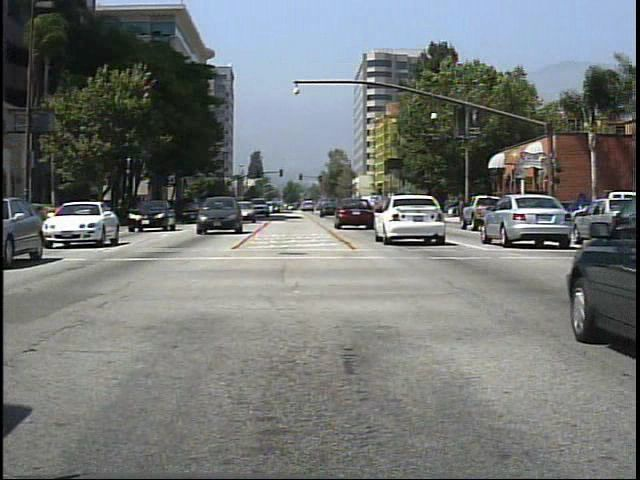person: (529, 194, 548, 228), (493, 189, 511, 224)
